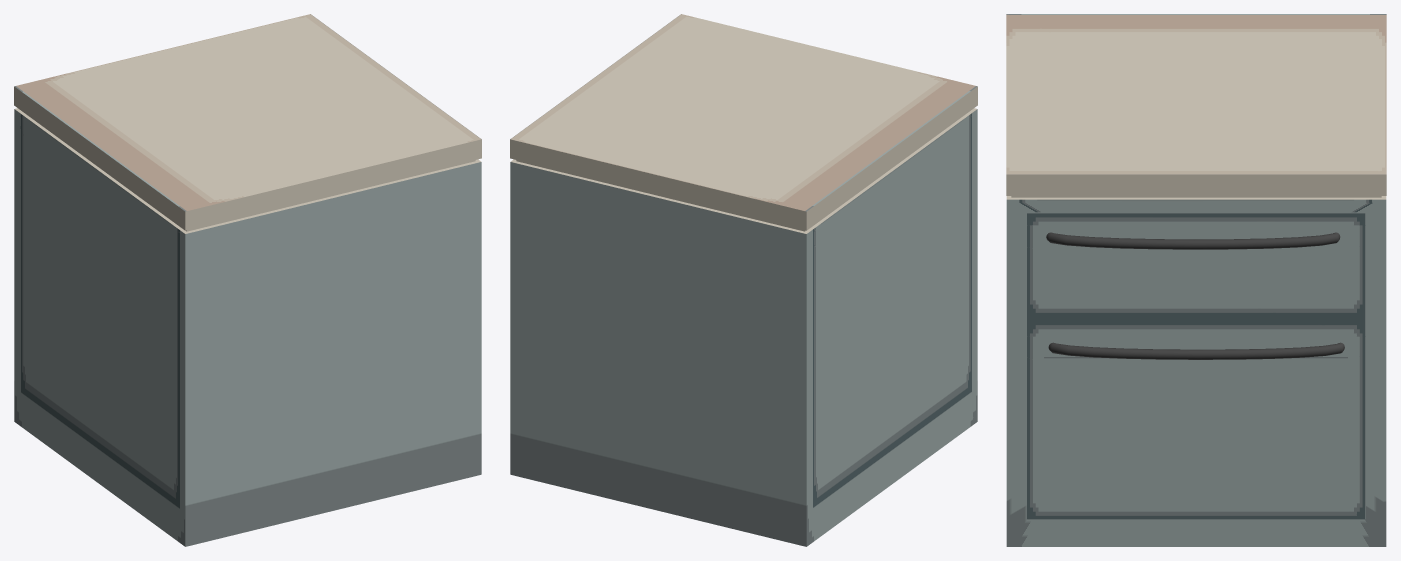
Rendered from armariodechaoprontotxt.fbx.
3 renders of one model, left to right at view 1: azimuth 30°, elevation 25°; view 2: azimuth 150°, elevation 25°; view 3: azimuth 270°, elevation 25°, orthographic. The views are drawn at different scales.
Parts seen in each view (by area): view 1: Cube, Cube.003; view 2: Cube, Cube.003; view 3: Cube.001, Cube.003, Cube, BézierCurve.001.
Boxes of the visible parts, x1,y1,x2,y2 form: Cube: (14,109,481,546); Cube.003: (14,14,481,233); Cube: (510,109,977,546); Cube.003: (510,14,977,233); Cube.001: (1027,212,1365,519); Cube.003: (1006,14,1386,199); Cube: (1006,199,1386,546); BézierCurve.001: (1046,232,1344,359).
Size of the model in its own units: 294 by 300 by 278.
1 material, 1 textured.
